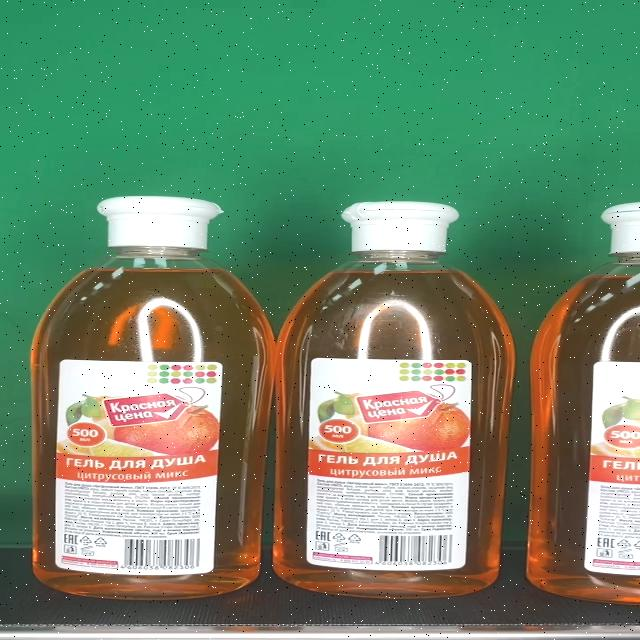Bottle: (30, 196, 277, 602), (274, 202, 518, 598)
Cap: (97, 197, 222, 247), (340, 202, 460, 253)
